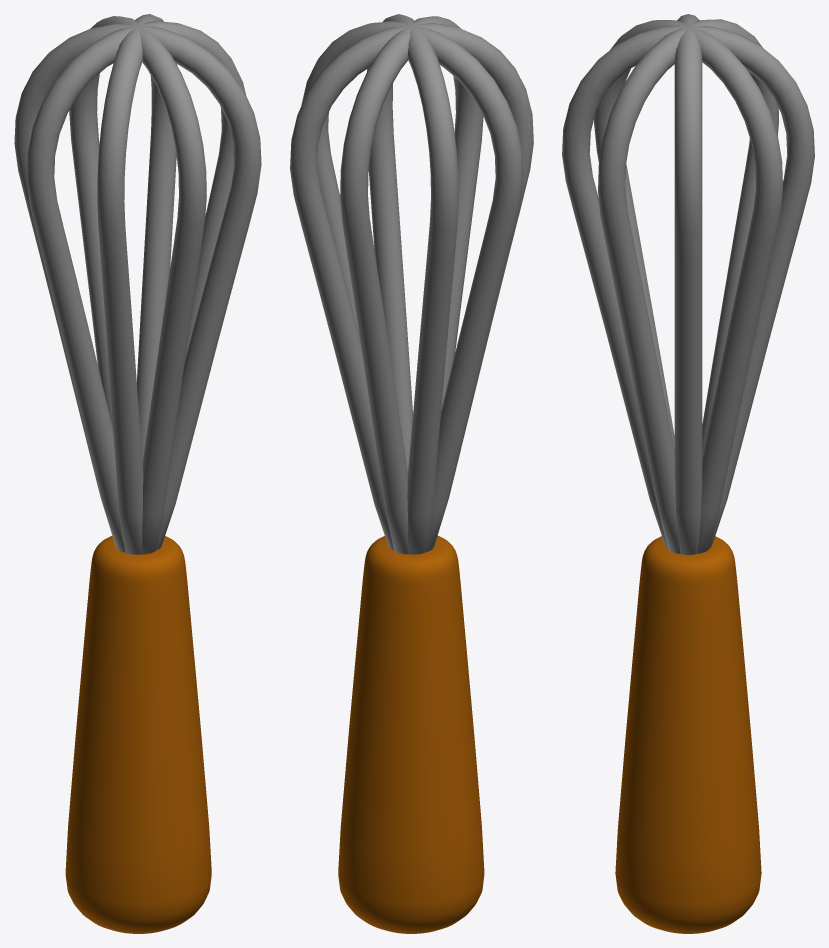
The model's file is WHISK.glb.glb.
The picture shows the model from 3 angles, left to right: view 1: azimuth 30°, elevation 25°; view 2: azimuth 150°, elevation 25°; view 3: azimuth 270°, elevation 25°; orthographic projection.
Parts seen in each view (by area): view 1: Circle.007, whisk; view 2: Circle.007, whisk; view 3: Circle.007, whisk.
Boxes of the visible parts, x1=… form: Circle.007: x1=14, y1=14, x2=261, y2=554; whisk: x1=65, y1=536, x2=211, y2=933; Circle.007: x1=290, y1=14, x2=533, y2=554; whisk: x1=338, y1=536, x2=484, y2=933; Circle.007: x1=562, y1=14, x2=814, y2=555; whisk: x1=615, y1=536, x2=761, y2=933.
Bounding box in the file's own units: 0.3777 × 1.47 × 0.3776.
